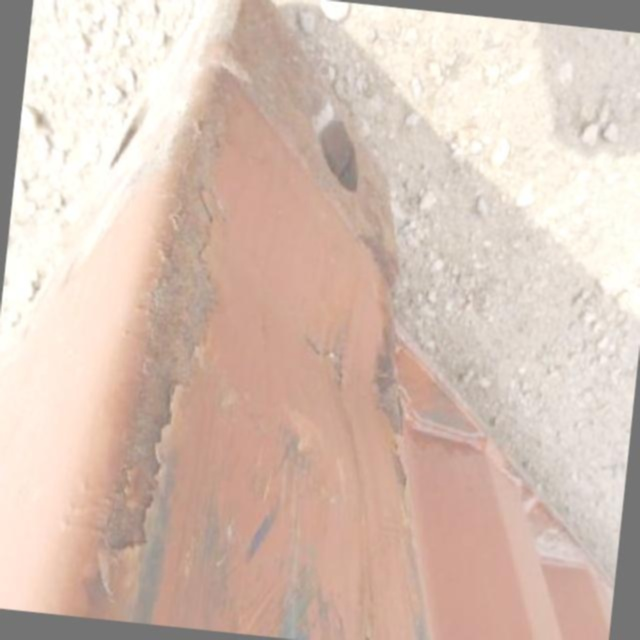Dent: (192, 181, 385, 463)
